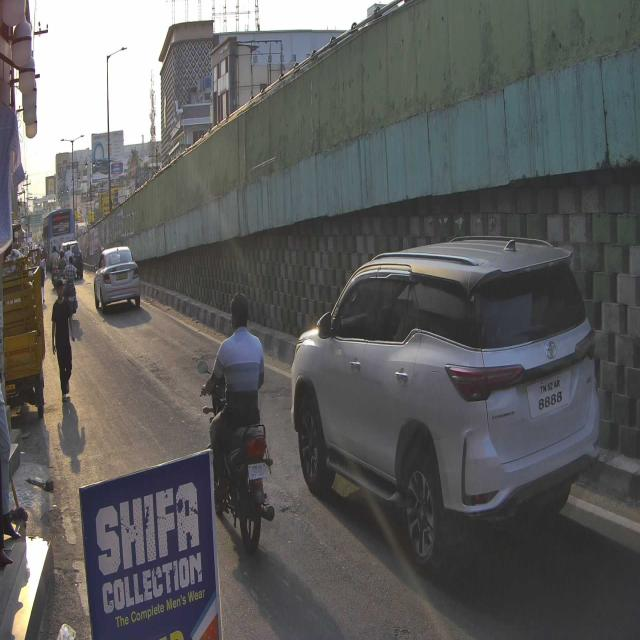single_rider: (197, 290, 274, 549)
